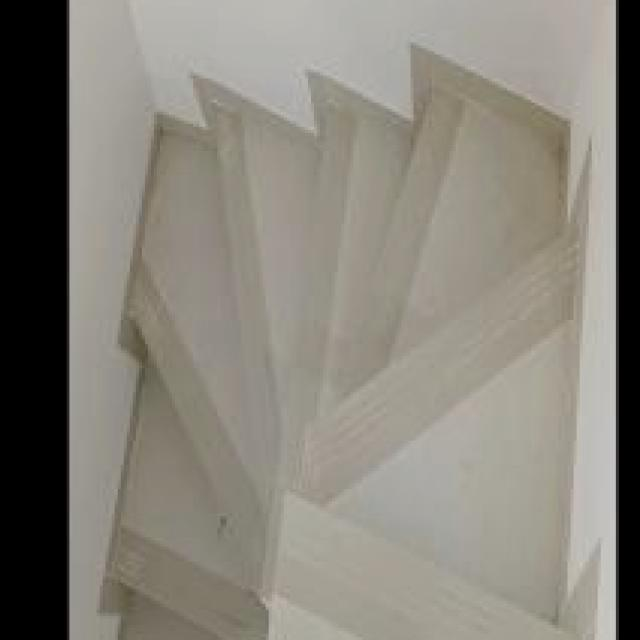downstair: (143, 97, 608, 640)
